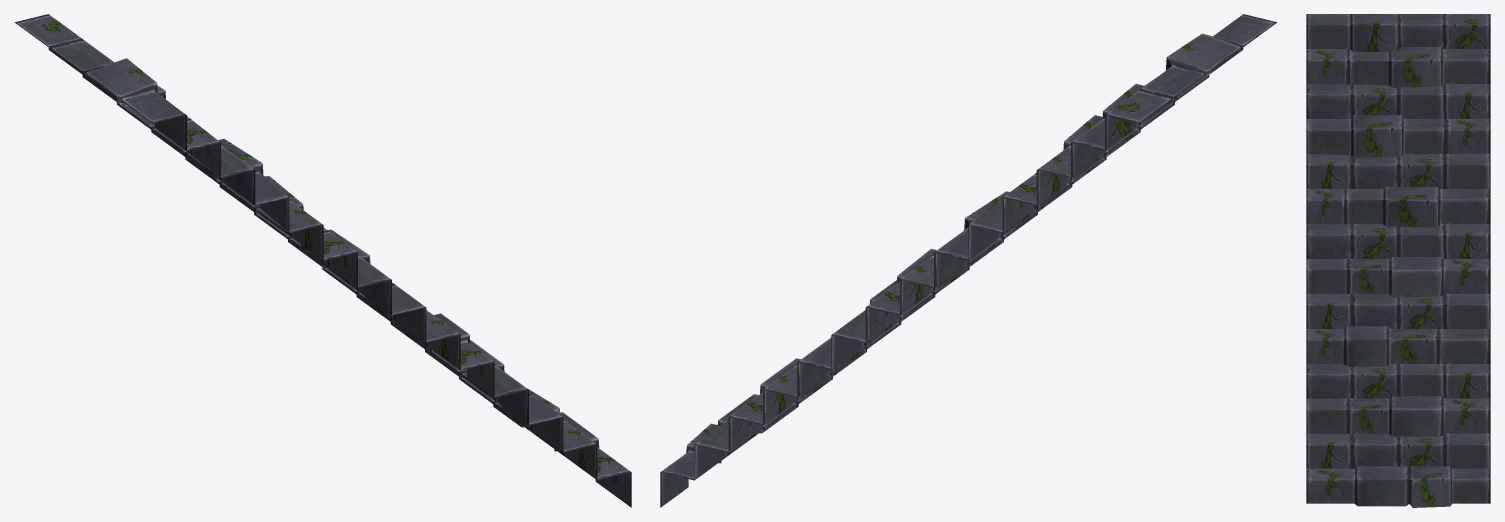
The model's file is MOD_Stairs_01_E_straight_1_half.fbx.
3 renders of one model, left to right at view 1: azimuth 30°, elevation 25°; view 2: azimuth 150°, elevation 25°; view 3: azimuth 270°, elevation 25°, orthographic. The views are drawn at different scales.
Parts seen in each view (by area): view 1: MOD_Stairs_01_E_straight_1_half; view 2: MOD_Stairs_01_E_straight_1_half; view 3: MOD_Stairs_01_E_straight_1_half.
Part boxes in pixels (left/top/right/bottom): MOD_Stairs_01_E_straight_1_half: left=15, top=14, right=631, bottom=507; MOD_Stairs_01_E_straight_1_half: left=660, top=14, right=1276, bottom=507; MOD_Stairs_01_E_straight_1_half: left=1306, top=14, right=1490, bottom=507.
Bounding box in the file's own units: 411 × 404 × 200.
